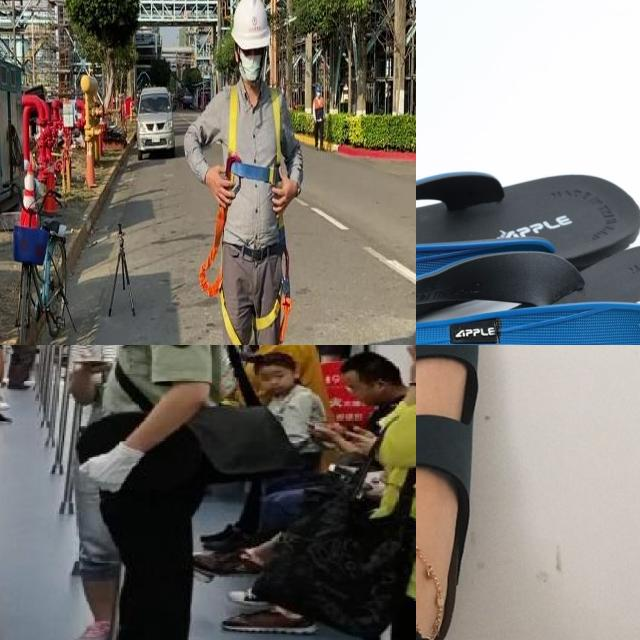Harness: (199, 207, 244, 345), (225, 85, 283, 186), (255, 256, 291, 344)
Sandals: (416, 161, 640, 345), (416, 345, 489, 640)
face_nomask: (259, 366, 295, 394)
hand_glove: (78, 448, 143, 495)
hand_noglove: (72, 352, 112, 377), (307, 422, 343, 448), (346, 428, 373, 455)
head_nohelmet: (335, 354, 376, 380), (250, 352, 295, 372)
person: (70, 345, 253, 640)
shoes: (219, 603, 319, 640), (68, 615, 115, 640)
